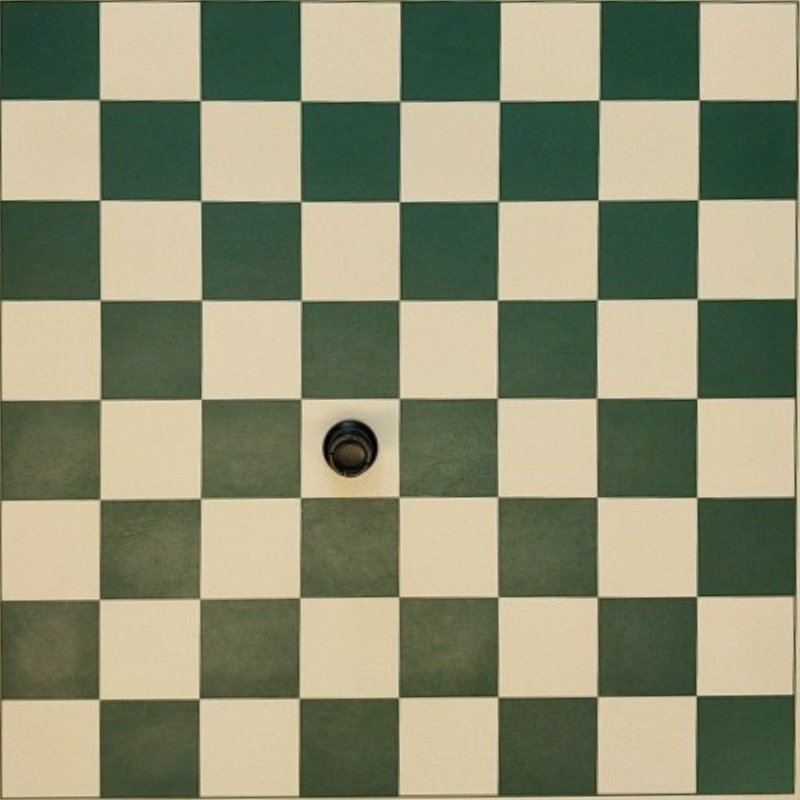black-rook: (322, 419, 378, 477)
